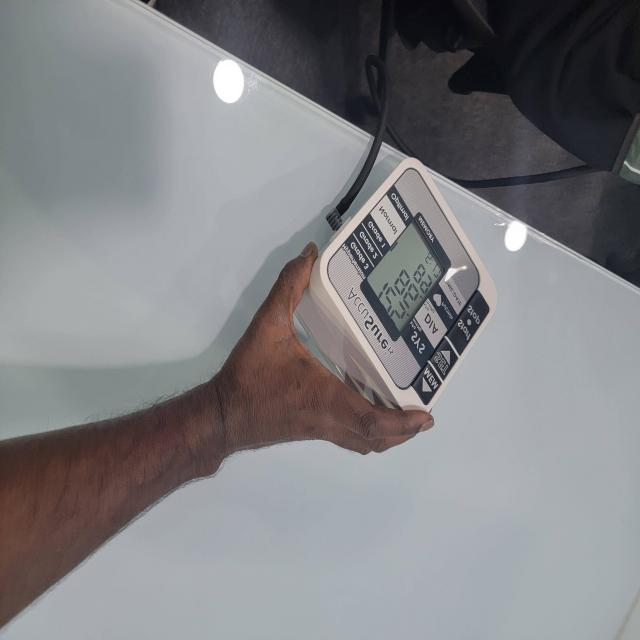bp: (321, 179, 496, 409)
